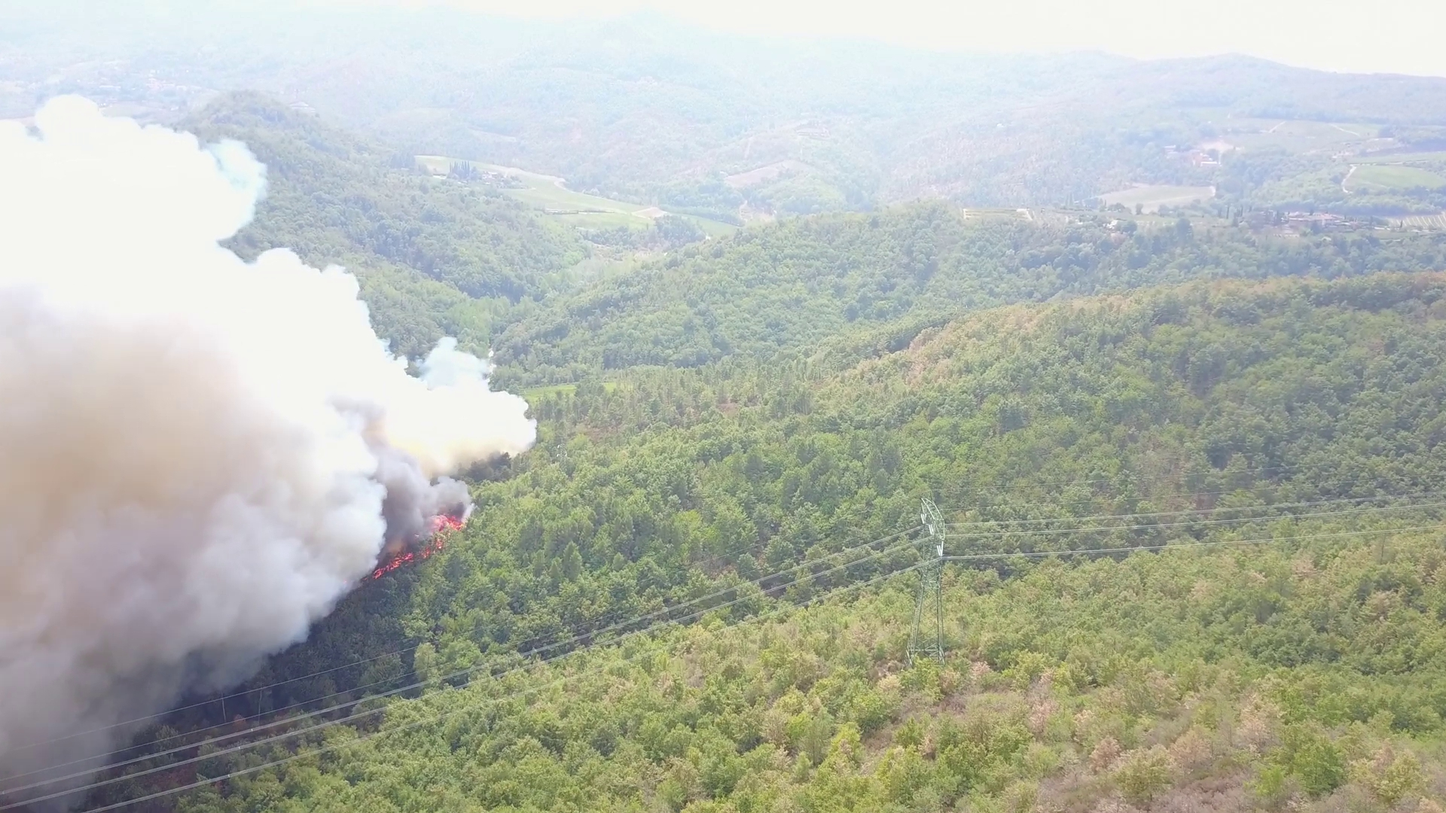forest_fire: (369, 514, 464, 579)
